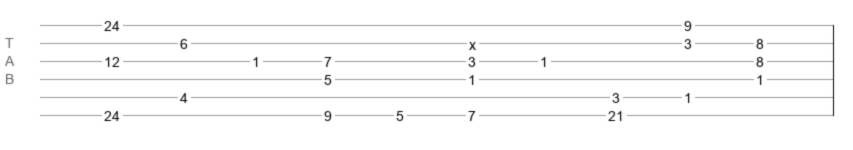1: (252, 54, 260, 64), (468, 72, 476, 82), (540, 54, 548, 64), (684, 90, 692, 100), (756, 72, 764, 82)
12: (104, 54, 120, 64)
21: (608, 108, 624, 118)
24: (104, 18, 120, 28), (104, 108, 120, 118)
3: (468, 54, 476, 64), (612, 90, 620, 100), (684, 36, 692, 46)
4: (180, 90, 188, 100)
5: (324, 72, 332, 82), (396, 108, 404, 118)
6: (180, 36, 188, 46)
7: (324, 54, 332, 64), (468, 108, 476, 118)
8: (756, 54, 764, 64), (756, 36, 764, 46)
9: (324, 108, 332, 118), (684, 18, 692, 28)
x: (469, 37, 476, 45)
